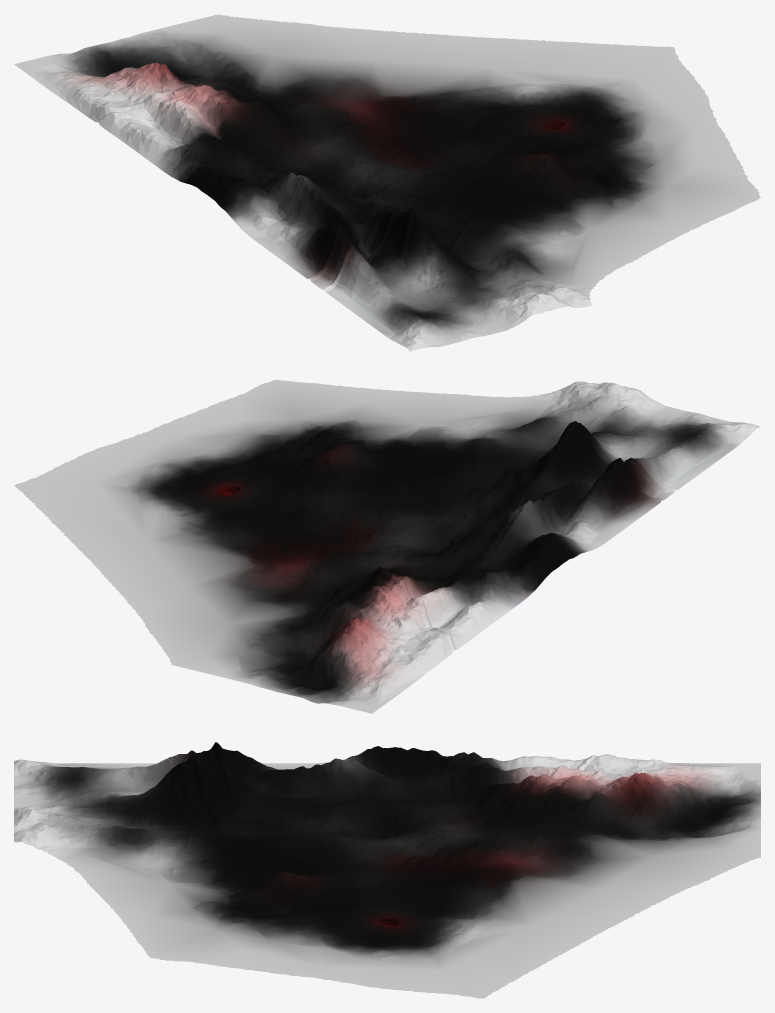
File: terrain_da_5_0_4_0_0.FBX
The picture shows the model from 3 angles, top to bottom: view 1: azimuth 30°, elevation 25°; view 2: azimuth 150°, elevation 25°; view 3: azimuth 270°, elevation 25°; orthographic projection. The views are drawn at different scales.
Visible parts, largest first — view 1: terrain_da_5_0_4_0_0; view 2: terrain_da_5_0_4_0_0; view 3: terrain_da_5_0_4_0_0.
Boxes of the visible parts, bbox=[...] form: terrain_da_5_0_4_0_0: bbox=[14, 14, 760, 351]; terrain_da_5_0_4_0_0: bbox=[14, 380, 760, 713]; terrain_da_5_0_4_0_0: bbox=[14, 742, 760, 998].
Size of the model in its own units: 74512 by 99803 by 12100.
